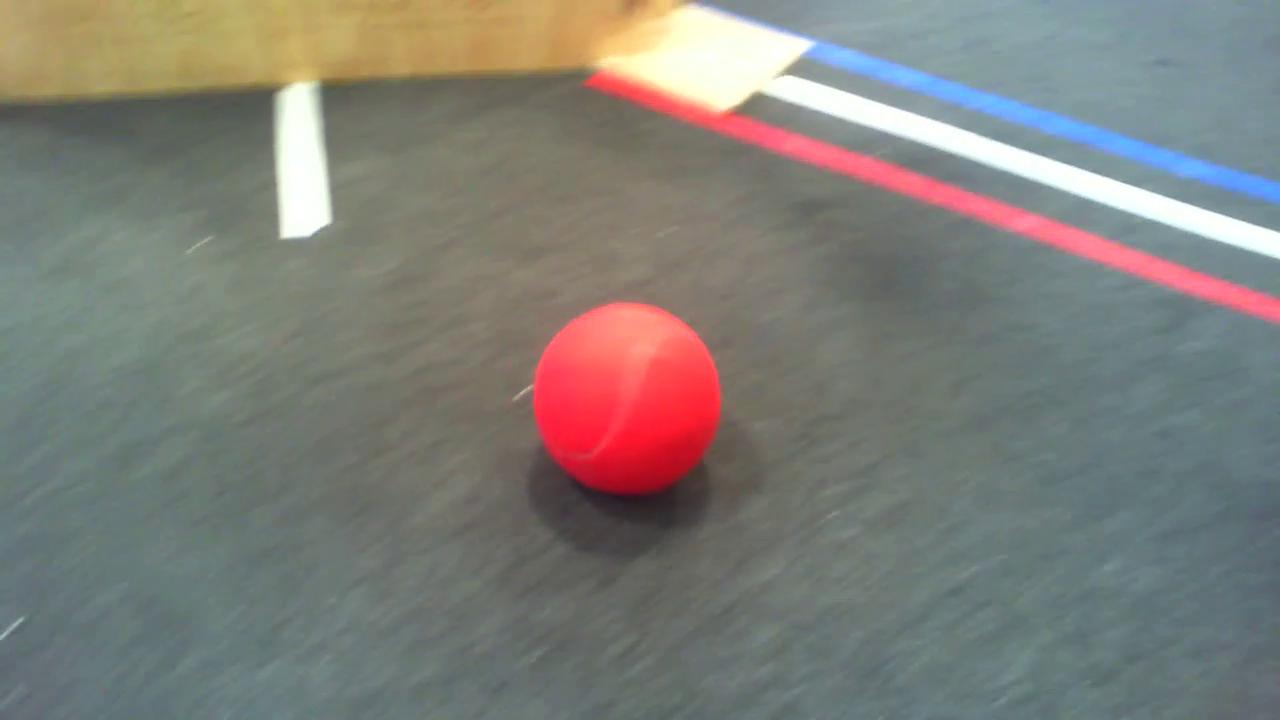Red_Ball: (508, 278, 730, 504)
